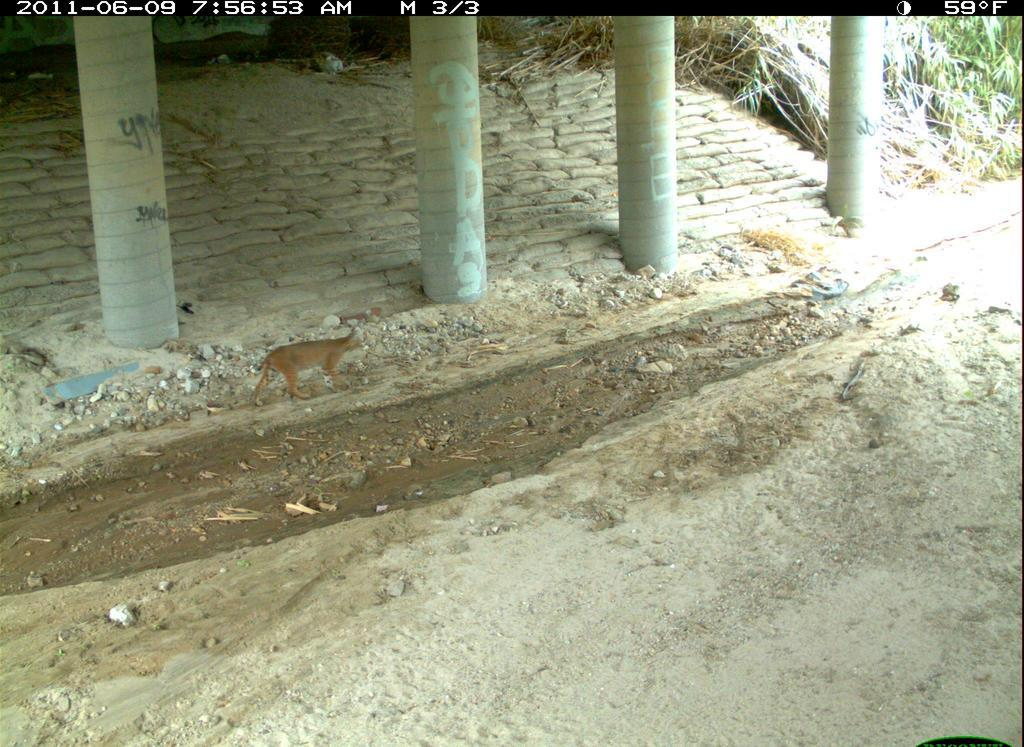bobcat: (494, 644, 750, 747)
